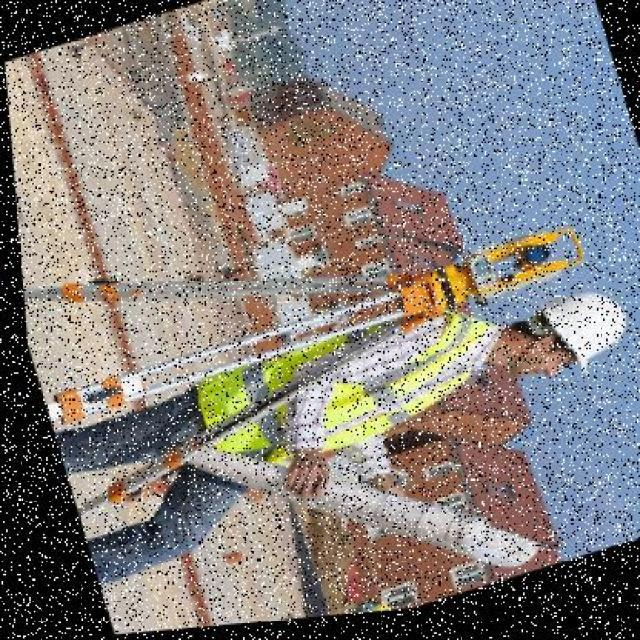helmet: (511, 285, 635, 398)
vest: (165, 308, 522, 502)
